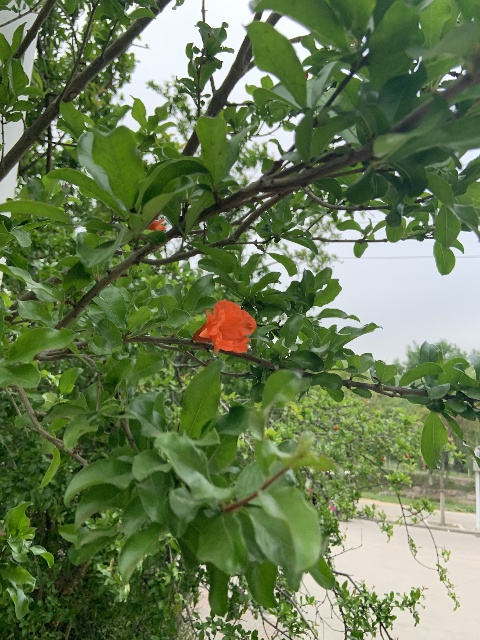flower: (193, 300, 256, 355), (147, 217, 166, 230)
